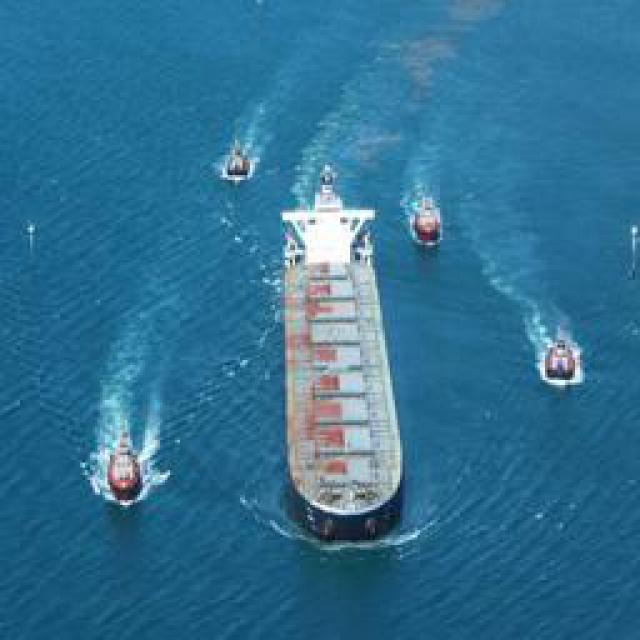Ship: (415, 197, 443, 247)
